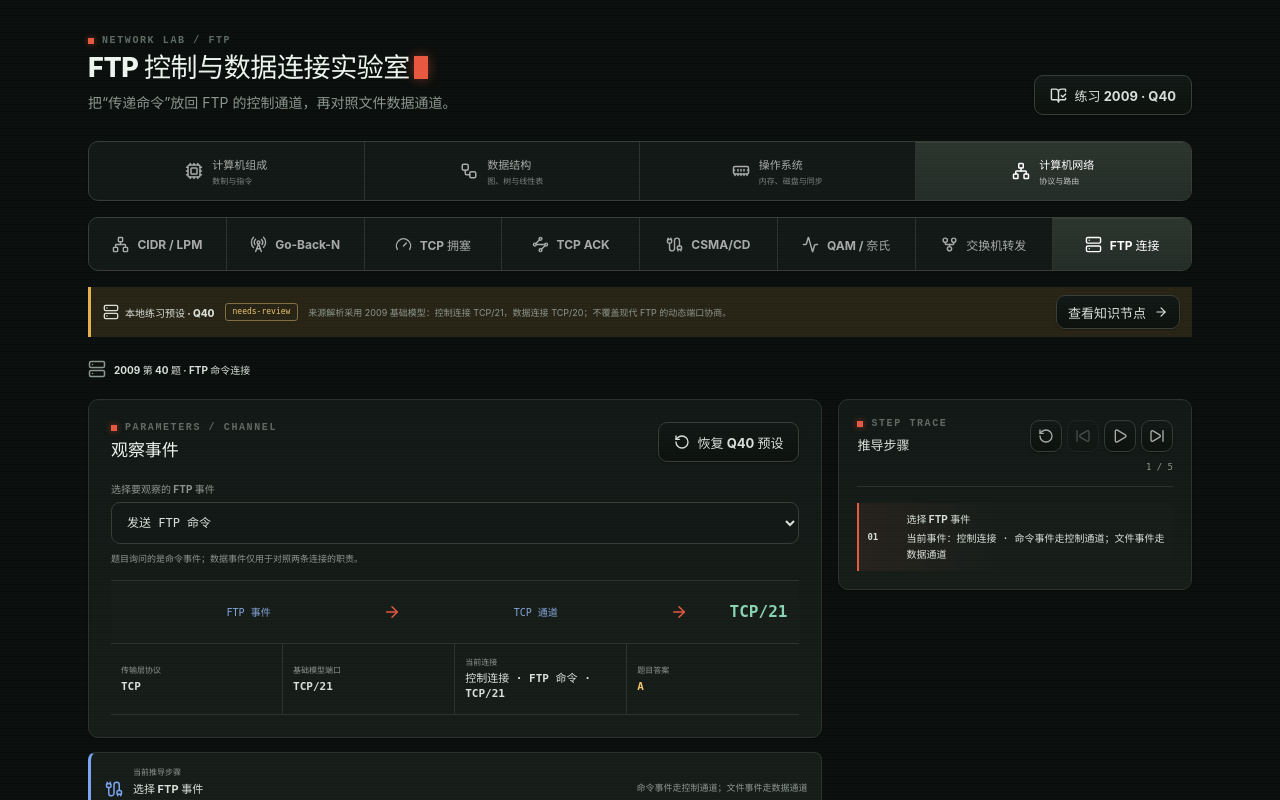
Scenario: FtpControlConnectionLabPage › advances and resets the five-step connection trace
The width and height of the screenshot is (1280, 800).
Expected: the text "1 / 5" is shown, [1146,464,1173,472]
Click the button named "下一步" at (1157,436), box [1141,420,1173,452]
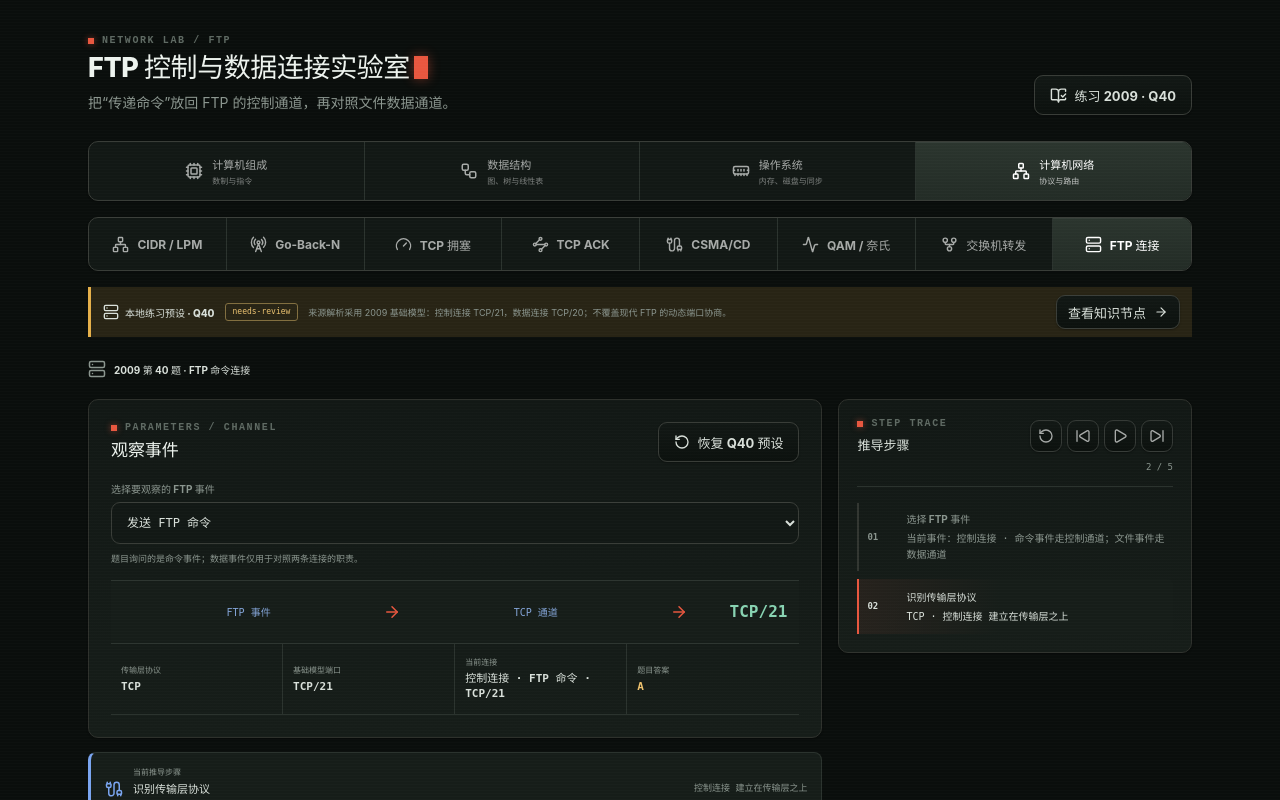
Expected: the text "2 / 5" is shown, [1146,464,1173,472]
Click the button named "复位步骤" at (1046,436), box [1030,420,1062,452]
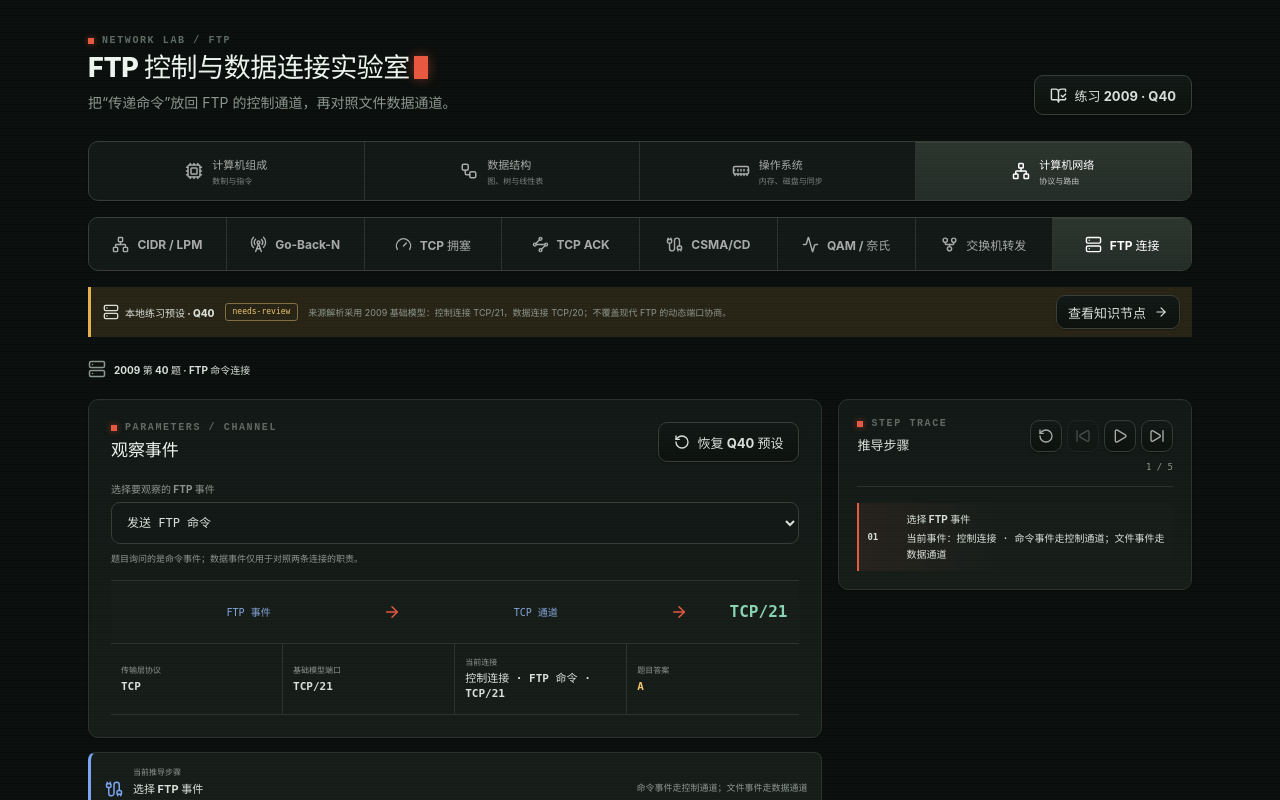
Expected: the text "1 / 5" is shown, [1146,464,1173,472]
